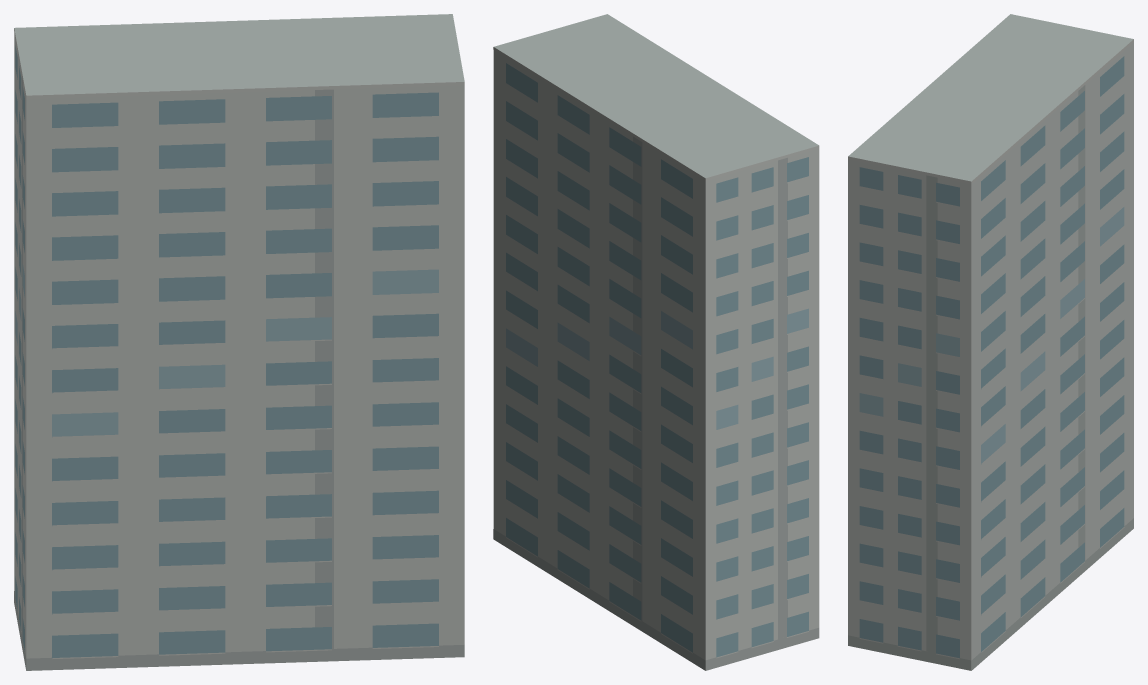
File: residential-edef5f17-8098-499e-9abb-cc73a11dd6fd.glb
3 renders of one model, left to right at view 1: azimuth 30°, elevation 25°; view 2: azimuth 150°, elevation 25°; view 3: azimuth 270°, elevation 25°, orthographic. The views are drawn at different scales.
Visible parts, largest first — view 1: residential-edef5f17-8098-499e-9abb-cc73a11dd6fd.tmp; view 2: residential-edef5f17-8098-499e-9abb-cc73a11dd6fd.tmp; view 3: residential-edef5f17-8098-499e-9abb-cc73a11dd6fd.tmp.
Boxes of the visible parts, x1,y1,x2,y2 form: residential-edef5f17-8098-499e-9abb-cc73a11dd6fd.tmp: (14, 14, 464, 670); residential-edef5f17-8098-499e-9abb-cc73a11dd6fd.tmp: (493, 14, 819, 670); residential-edef5f17-8098-499e-9abb-cc73a11dd6fd.tmp: (848, 14, 1133, 670).
Size of the model in its own units: 29.37 by 40 by 21.18.
